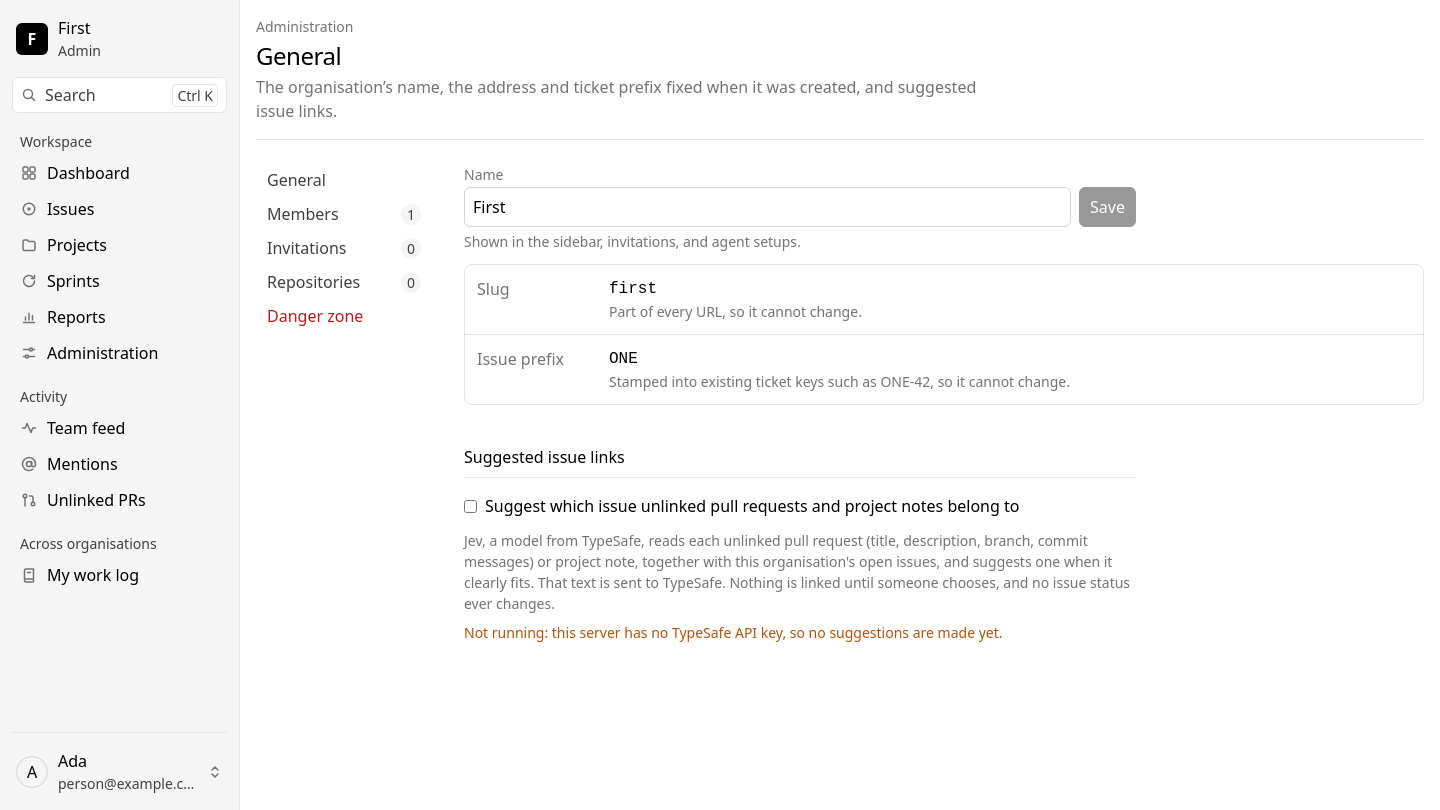
Administration pages › gives each page its own address, heading, and title, and marks the current section
Click the link "Members 1".
click(303, 214)  # box [256, 198, 432, 230]
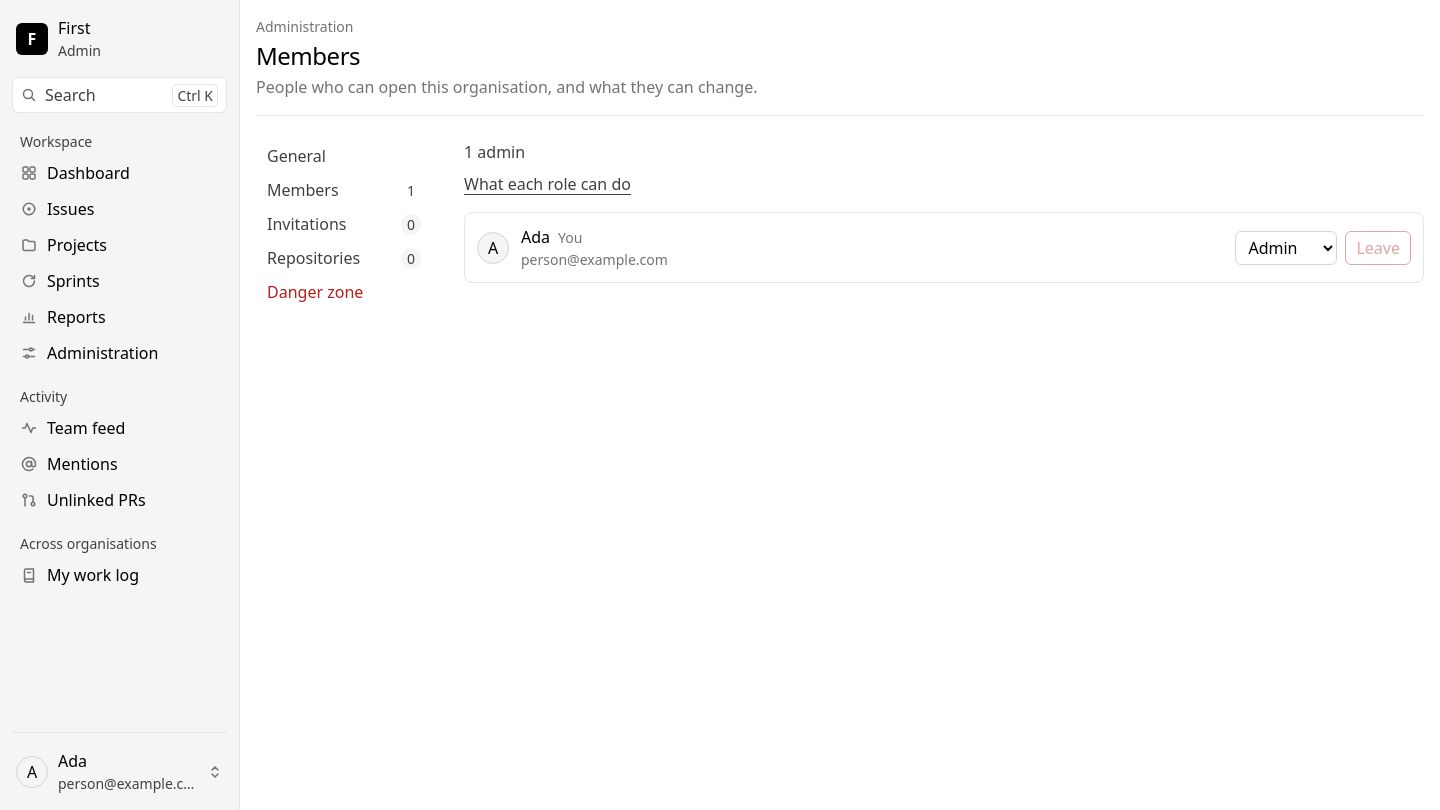
Check: the heading "Members" is shown, box [256, 39, 360, 72]
